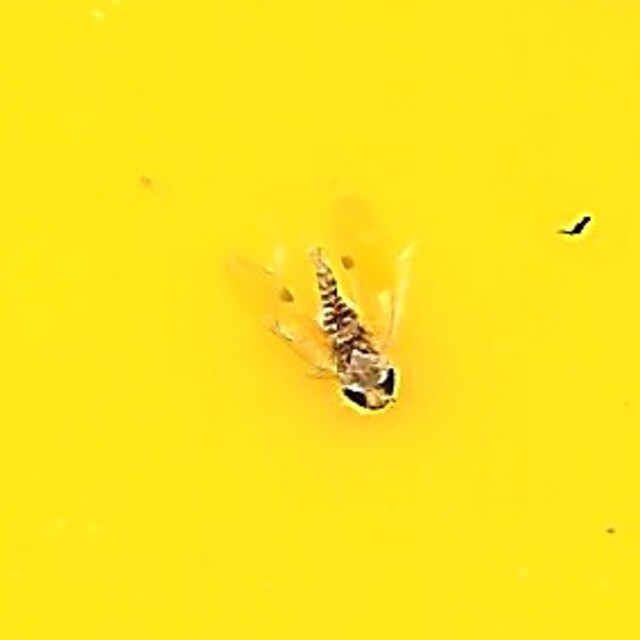Hemiptera: (226, 211, 414, 429)
